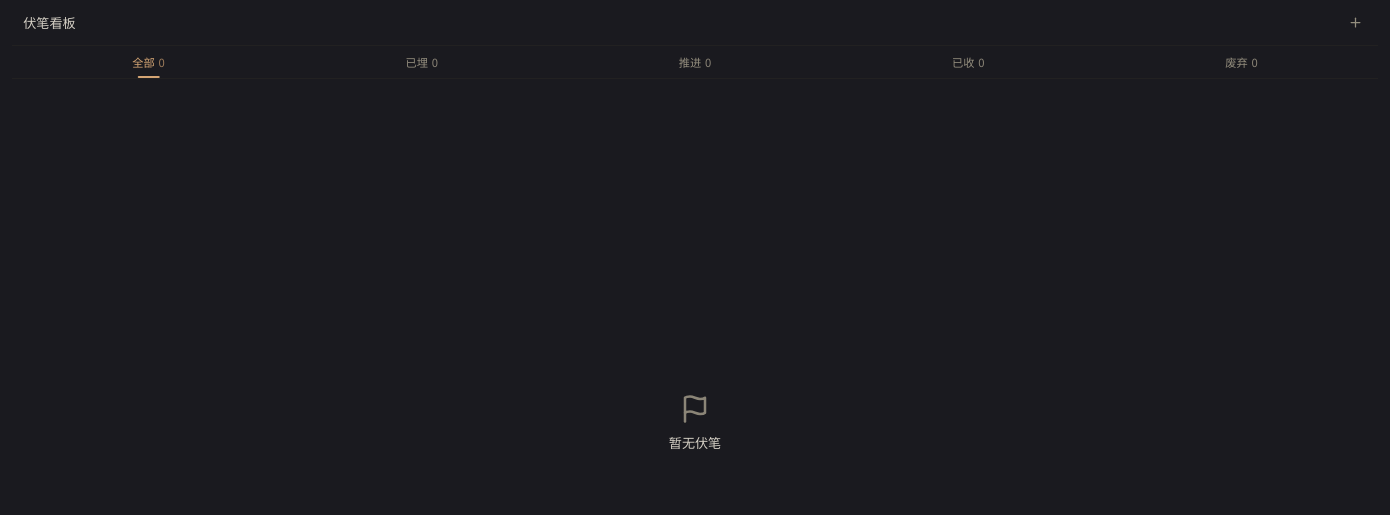
ForeshadowPanel › 点击"取消"关闭添加输入框
Click the button named "新建伏笔". click: (1356, 23)
box: top-left (1344, 11), bottom-right (1367, 34)
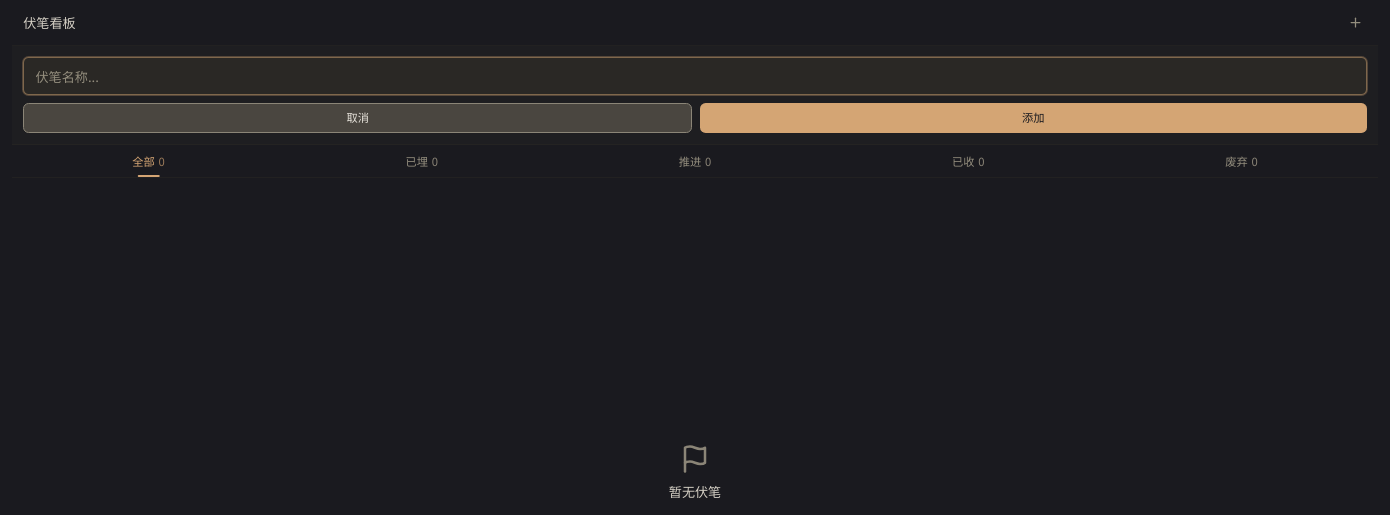
Click the button "取消". click: (358, 118)
box: top-left (23, 103), bottom-right (692, 133)
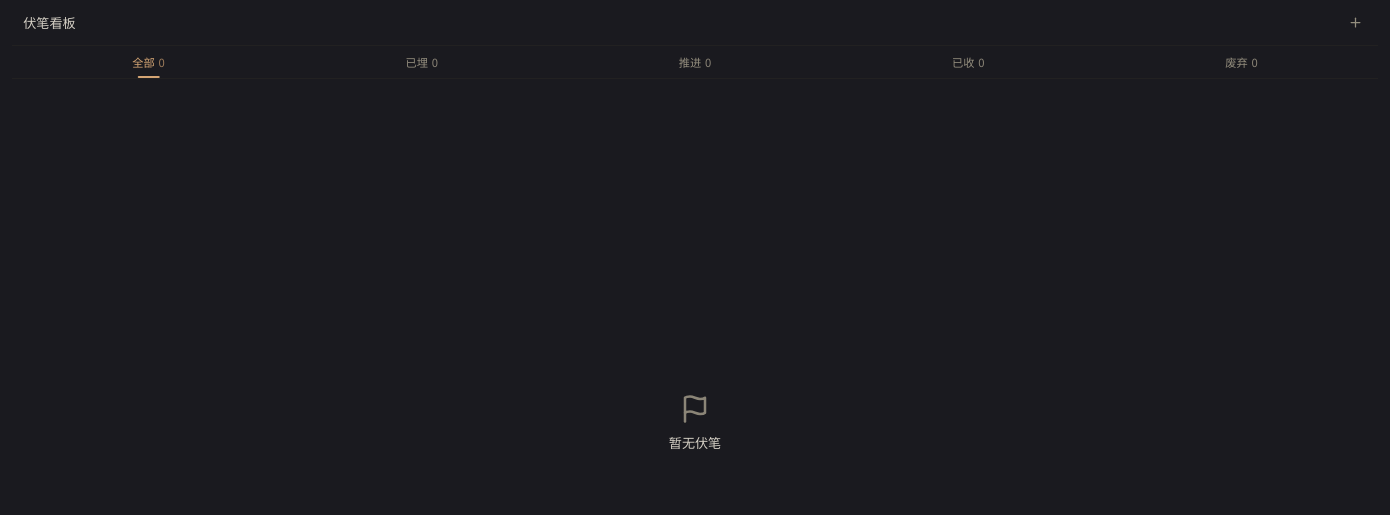
Check: the field with placeholder "伏笔名称..." is gone
